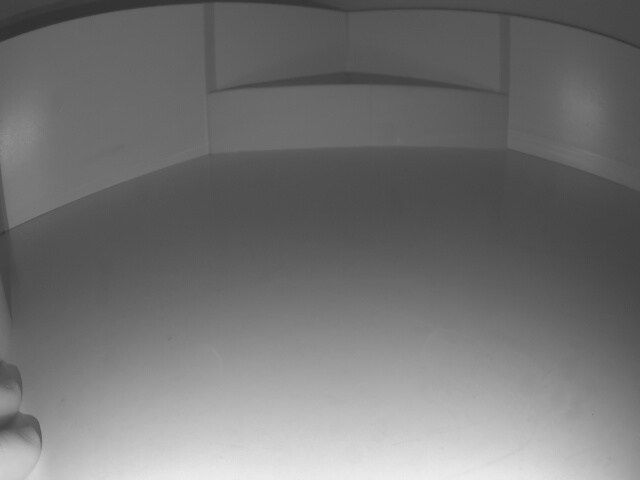Point: (207, 90, 503, 155)
